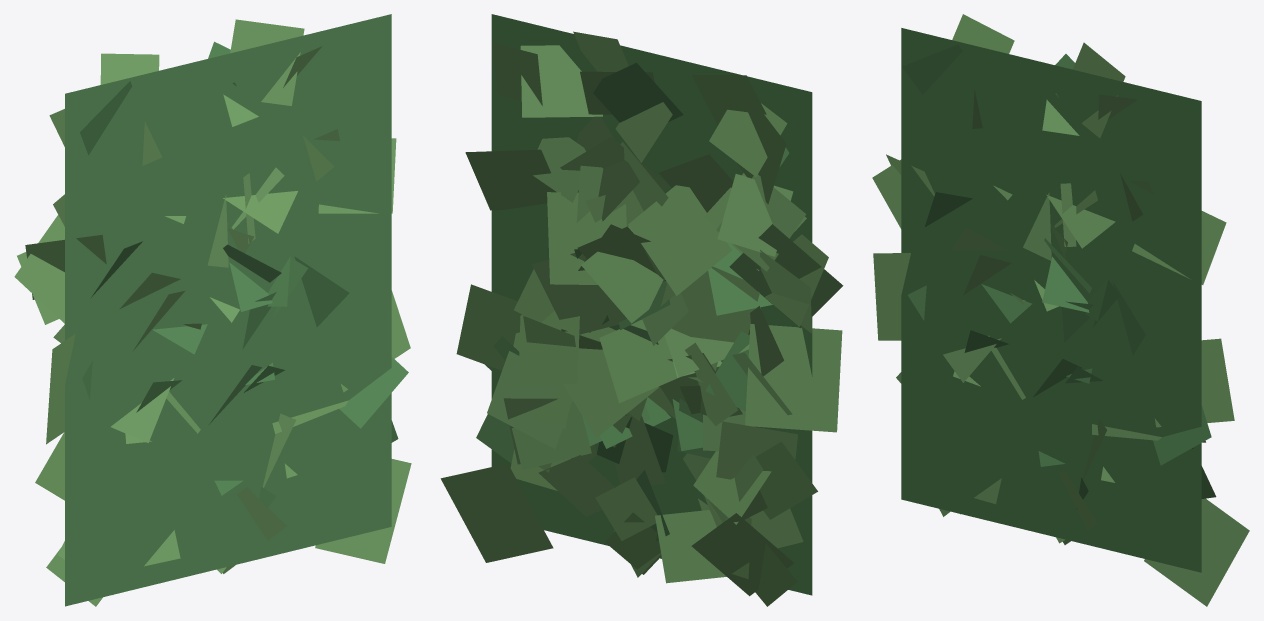
File: vine_wall_2m.glb
The picture shows the model from 3 angles, left to right: view 1: azimuth 30°, elevation 25°; view 2: azimuth 150°, elevation 25°; view 3: azimuth 330°, elevation 25°; orthographic projection. The views are drawn at different scales.
Visible parts, largest first — view 1: vine_wall_2m; view 2: vine_wall_2m; view 3: vine_wall_2m.
Boxes of the visible parts, bbox=[...] form: vine_wall_2m: bbox=[14, 14, 411, 606]; vine_wall_2m: bbox=[440, 14, 843, 606]; vine_wall_2m: bbox=[872, 14, 1249, 606].
Bounding box in the file's own units: 2.47 × 3.36 × 0.4208.
